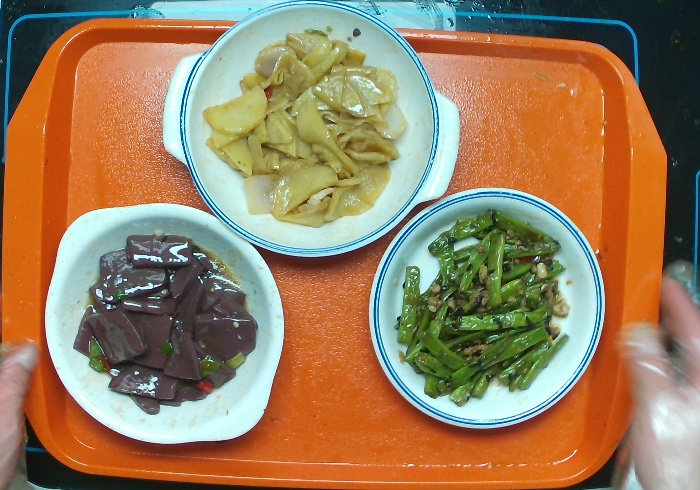HZYJPL-Dai_Er_Bai_Yuan_Wan: (45, 201, 286, 449)
HZYJPL-Lan_Bian_Dai_Er_Wan: (163, 3, 461, 258)
HZYJPL-Lan_Bian_Yuan_Die: (365, 189, 608, 428)
